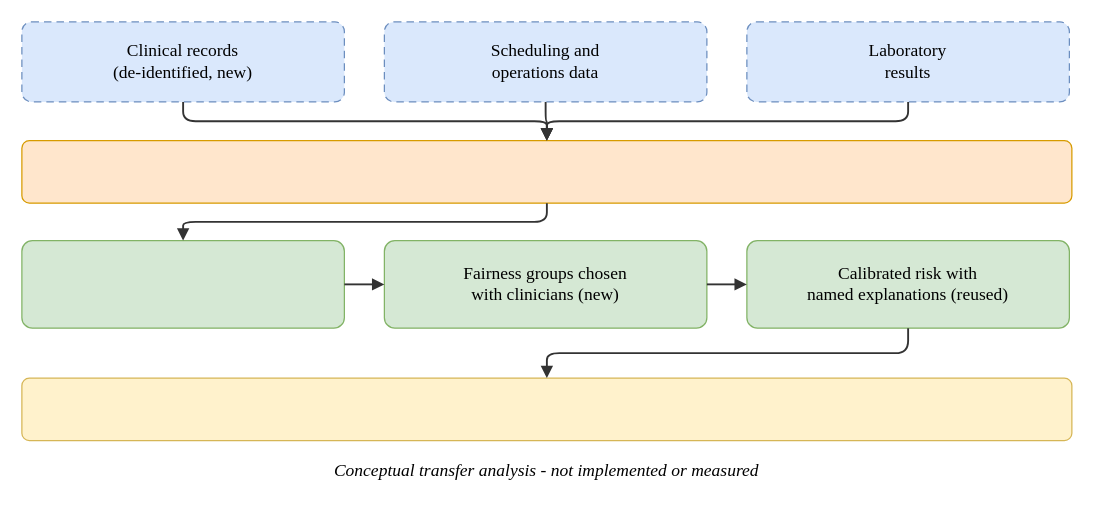
Image size: 1094x510. Some labels were removed from this diagram. The shapes that lost their labels are listed below. From the top down, each one's centre as x and y in pixels, then its label:
At (546,171): "Governed ingestion and profiling; transport encryption required (new)".
At (182,283): "Readmission or no-show features (new catalogue)".
At (546,409): "Clinician review; sandbox, audit, no-deletion policy (reused)".
